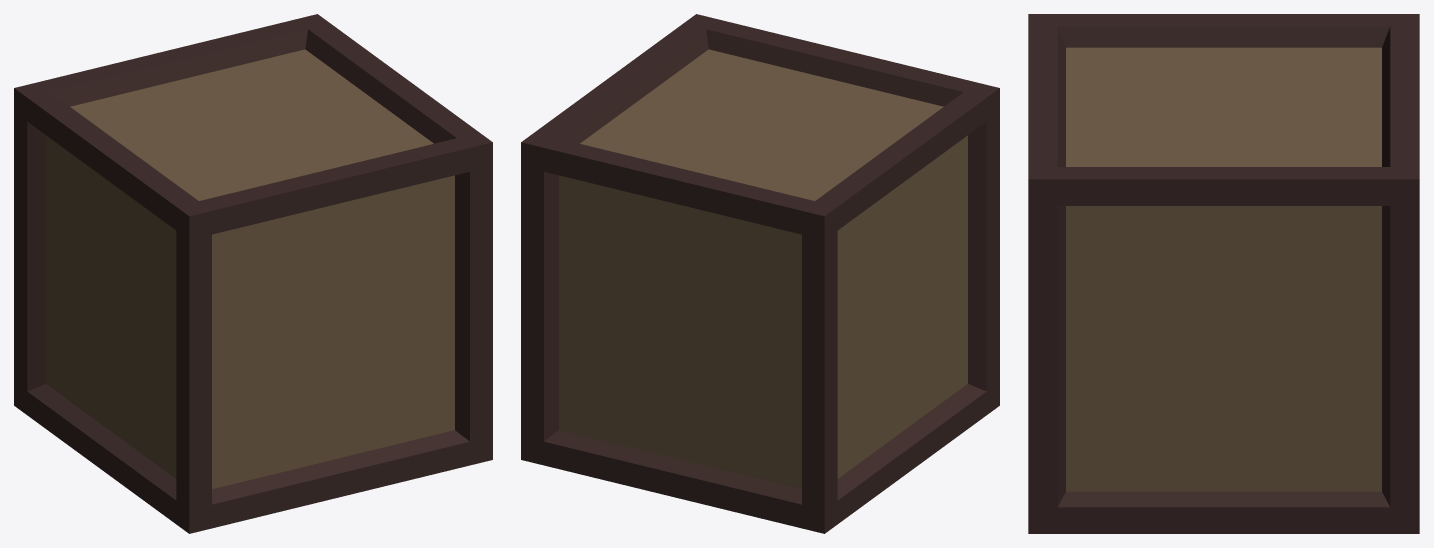
3 renders of one model, left to right at view 1: azimuth 30°, elevation 25°; view 2: azimuth 150°, elevation 25°; view 3: azimuth 270°, elevation 25°, orthographic. The views are drawn at different scales.
Parts seen in each view (by area): view 1: Box; view 2: Box; view 3: Box.
Part boxes in pixels (x1,y1,x2,y2): Box: (14, 14, 492, 533); Box: (521, 14, 999, 533); Box: (1028, 14, 1419, 533).
Size of the model in its own units: 200 by 200 by 200.
Materials: 1 (1 with a texture image).
